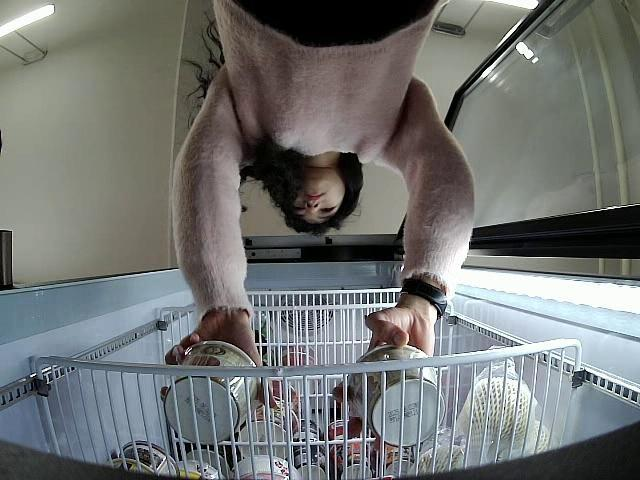04_chapagetti_S: (347, 344, 445, 444), (165, 343, 261, 442)
